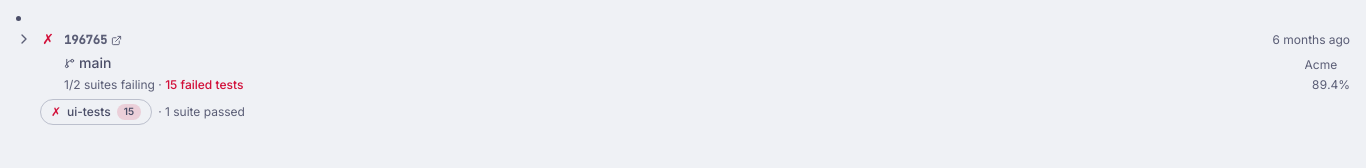
RunRow › is collapsed without fetching failures until toggled open, and toggles closed
This screenshot has width=1366, height=168.
Click the button with test id "run-row-toggle": point(24, 39) [12,27,36,51]
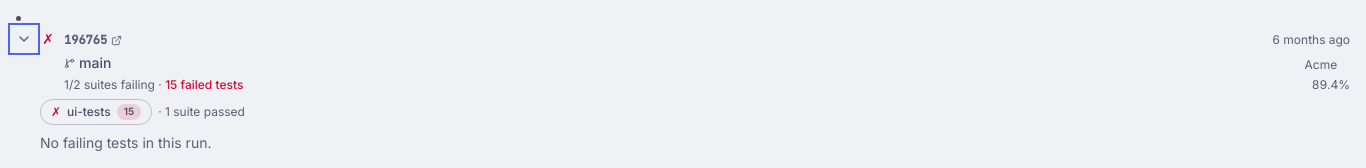
Result: the button with test id "run-row-toggle" is expanded
Result: the text "No failing tests in this run." is shown at [40,134,212,151]
Click the button with test id "run-row-toggle": point(24, 39) [12,27,36,51]
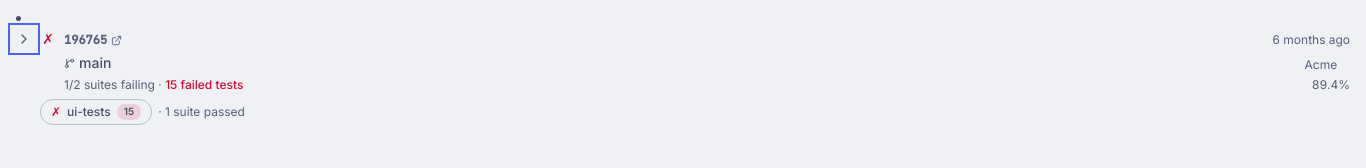
Result: the button with test id "run-row-toggle" is collapsed at [12,27,36,51]
Result: the text with test id "run-failures" is gone
